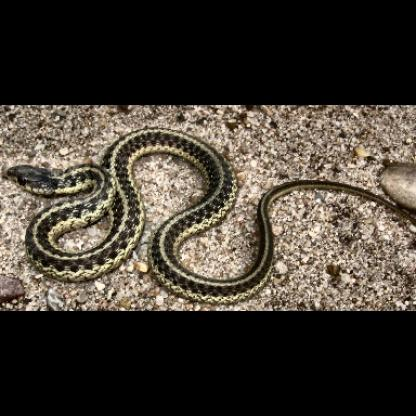Snake: (5, 126, 400, 300)
